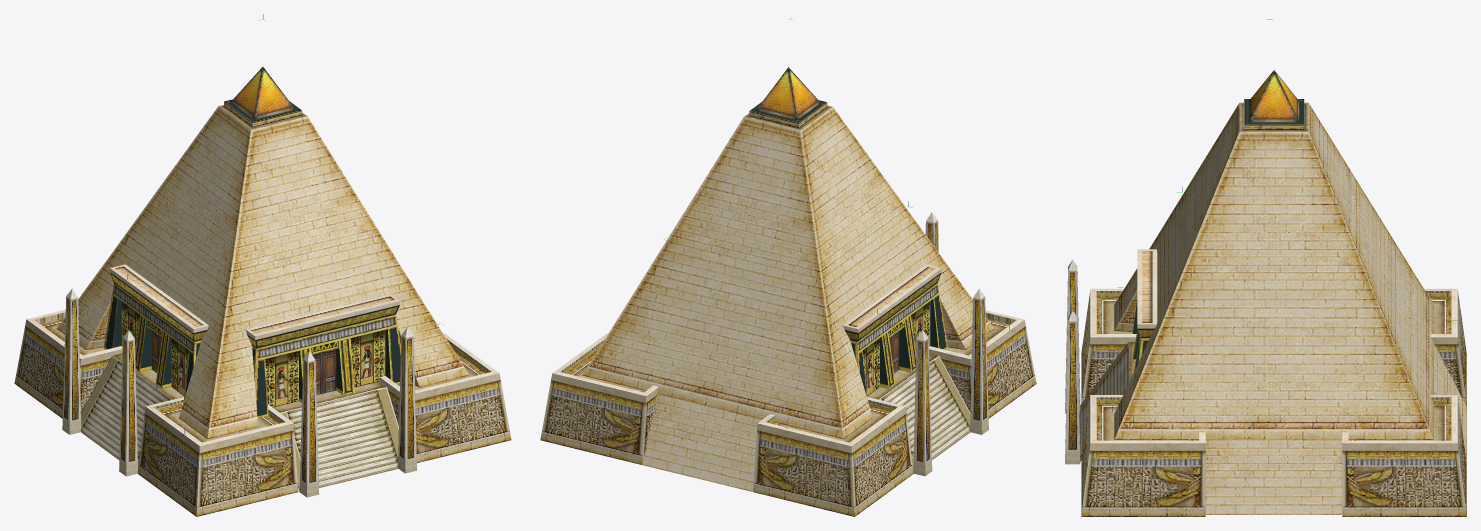
File: egyptian-wonder.glb
The picture shows the model from 3 angles, left to right: view 1: azimuth 30°, elevation 25°; view 2: azimuth 150°, elevation 25°; view 3: azimuth 270°, elevation 25°; orthographic projection. The views are drawn at different scales.
Parts seen in each view (by area): view 1: building e ra wonderModel; view 2: building e ra wonderModel; view 3: building e ra wonderModel.
Part boxes in pixels (bbox=[...]): building e ra wonderModel: bbox=[14, 67, 511, 516]; building e ra wonderModel: bbox=[540, 67, 1036, 516]; building e ra wonderModel: bbox=[1065, 70, 1466, 516].
Bounding box in the file's own units: 16.19 × 18.89 × 16.31.
4 materials, 3 textured.
